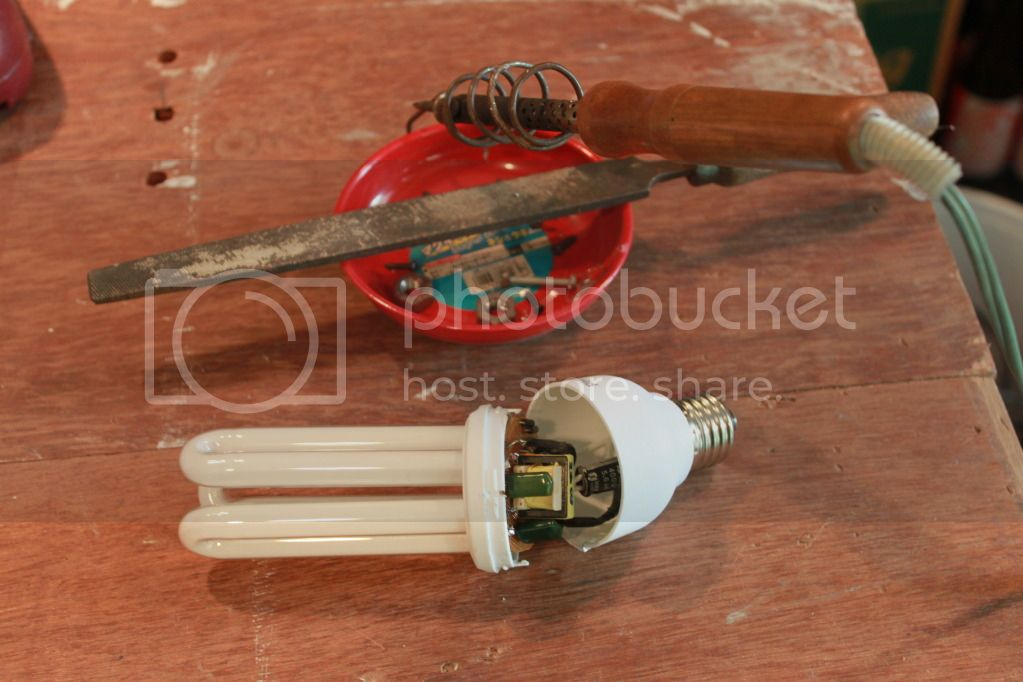Light_bulb: (150, 360, 751, 585)
